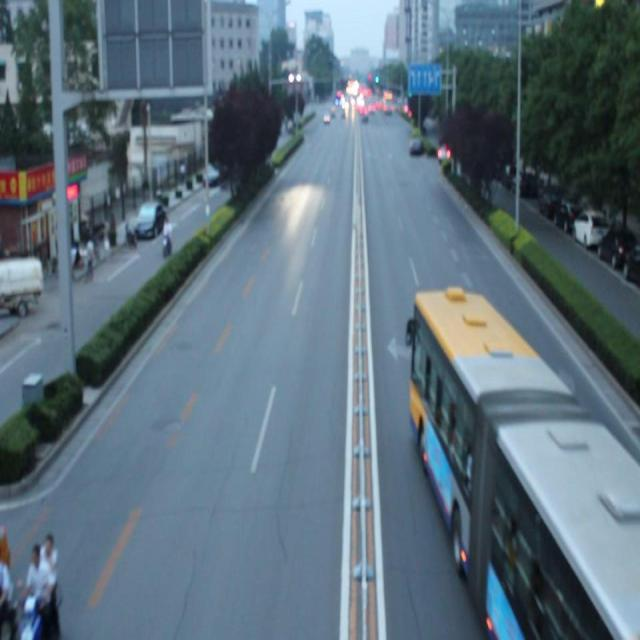van: (414, 291, 640, 640)
